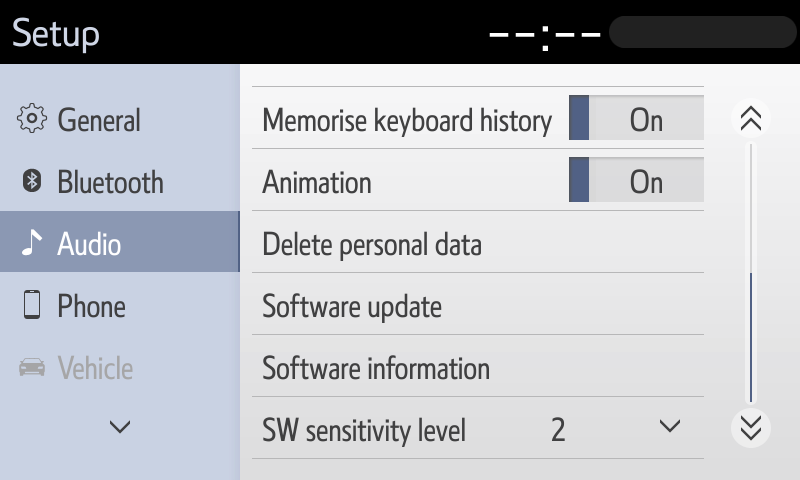touchPart: (249, 267, 706, 342), (251, 331, 706, 405), (248, 79, 705, 152), (251, 392, 708, 465), (248, 206, 708, 277), (249, 146, 700, 214), (18, 159, 175, 198), (14, 103, 148, 138), (18, 286, 136, 323), (730, 410, 770, 449), (736, 98, 768, 135), (104, 417, 136, 437)
untouchPart: (1, 208, 242, 273), (477, 12, 796, 58), (7, 347, 139, 387), (4, 12, 106, 57)
